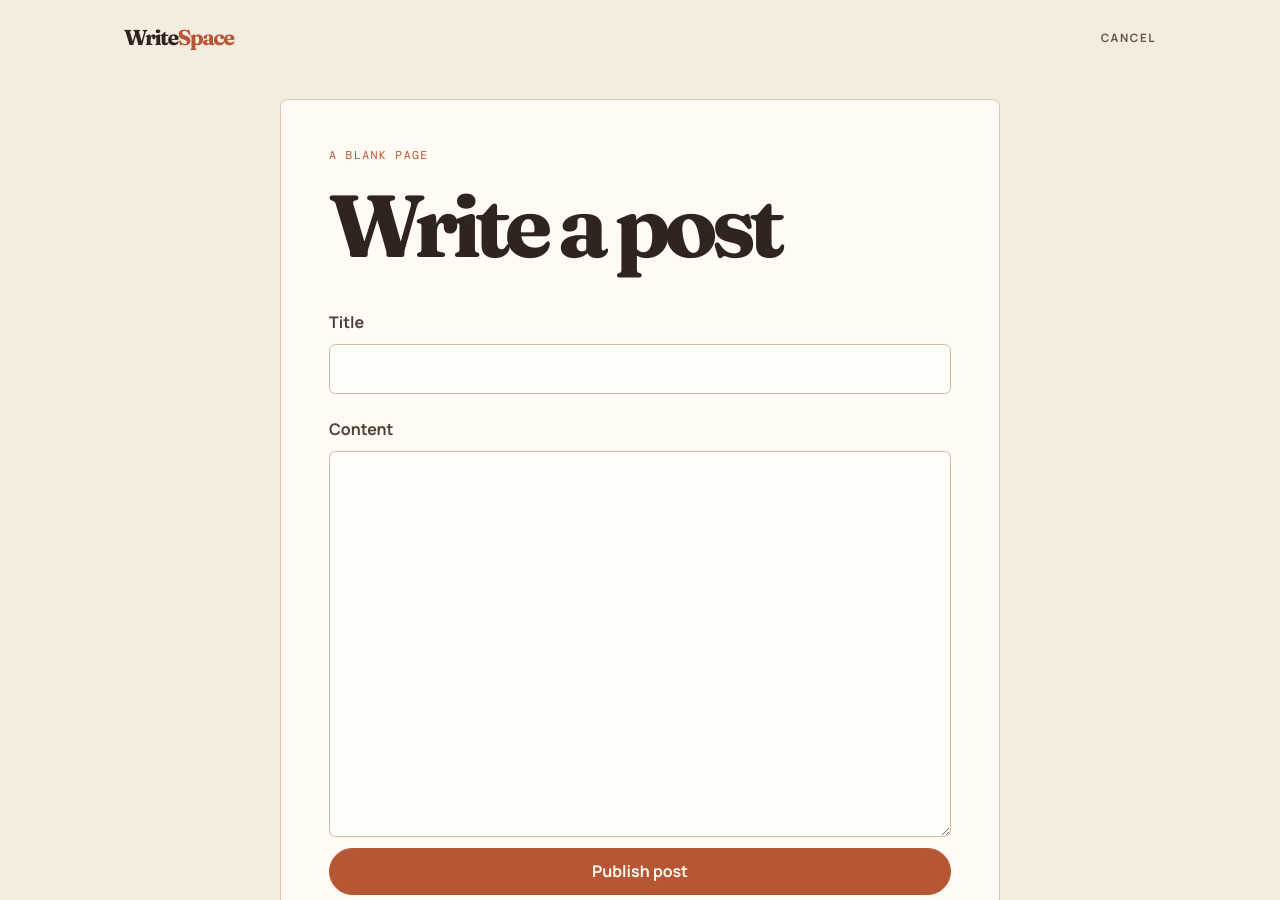
Test: post components › blocks a blank editor submission accessibly
Click the button "Publish post": (640, 872) x1=329 y1=848 x2=951 y2=895
(page scrolled)
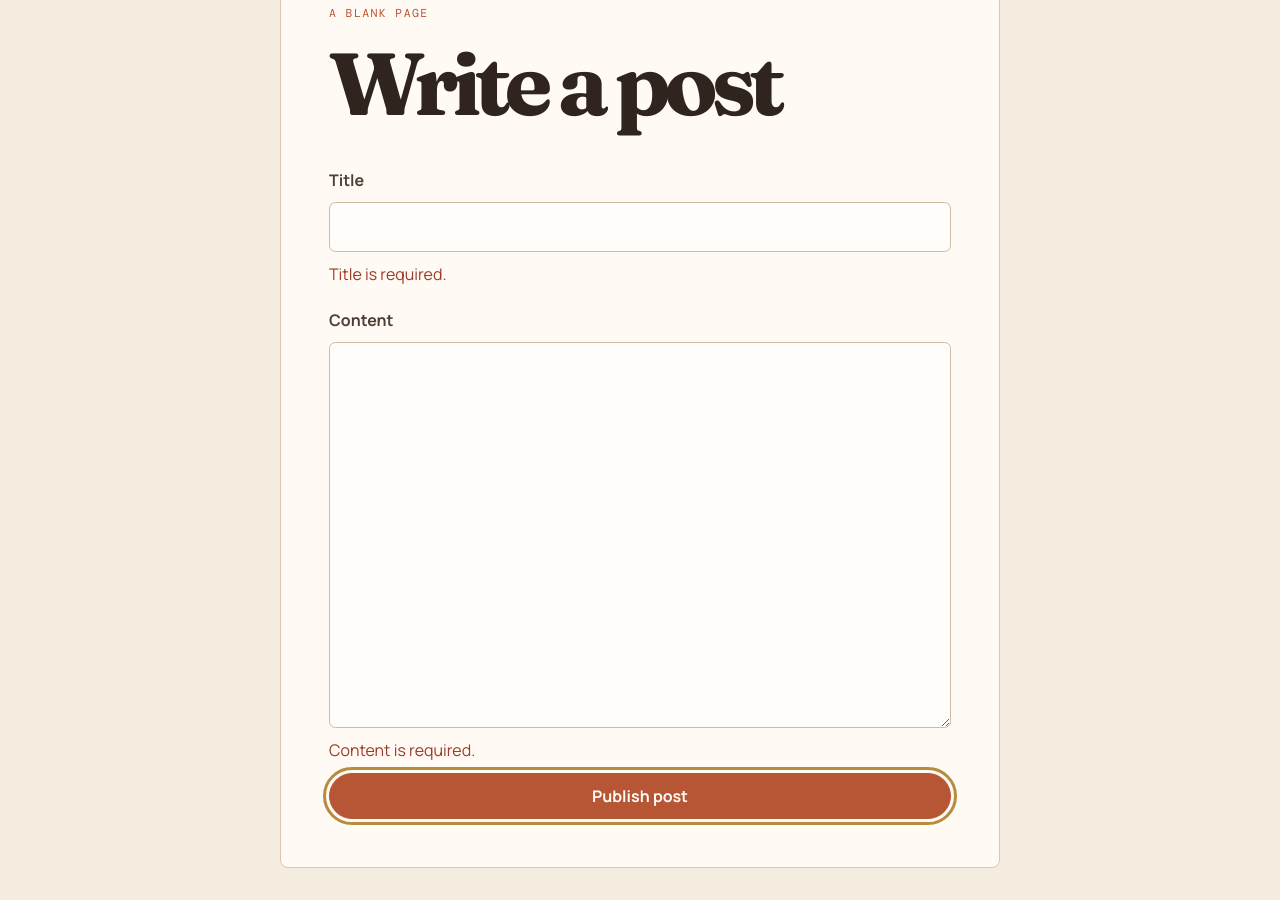
Expected: the text "Title is required." is shown, x1=329 y1=263 x2=446 y2=285
Expected: the text "Content is required." is shown, x1=329 y1=740 x2=475 y2=762
